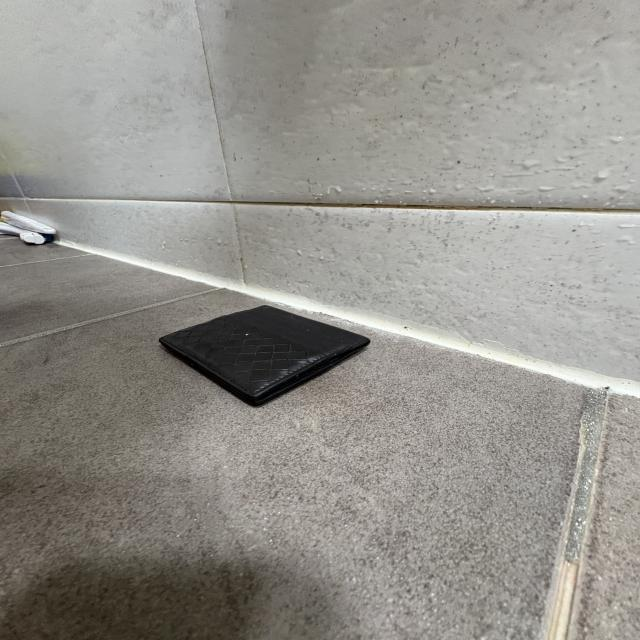wallet: (159, 306, 373, 407)
